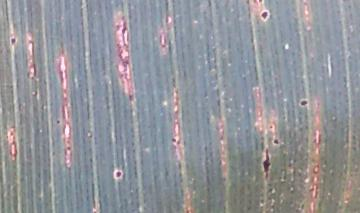tarspot: (258, 145, 274, 181), (257, 8, 274, 23), (296, 95, 312, 109), (111, 168, 126, 182), (8, 31, 19, 50), (271, 134, 283, 149), (169, 134, 179, 147), (53, 116, 61, 128)
